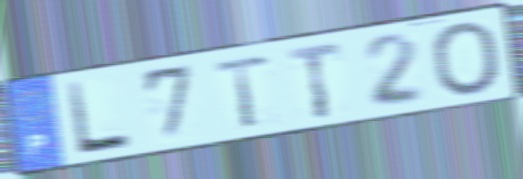2: (362, 32, 429, 110)
7: (140, 61, 198, 144)
L: (64, 79, 135, 159)
O: (427, 19, 504, 99)
T: (285, 39, 346, 122), (212, 51, 273, 132)
